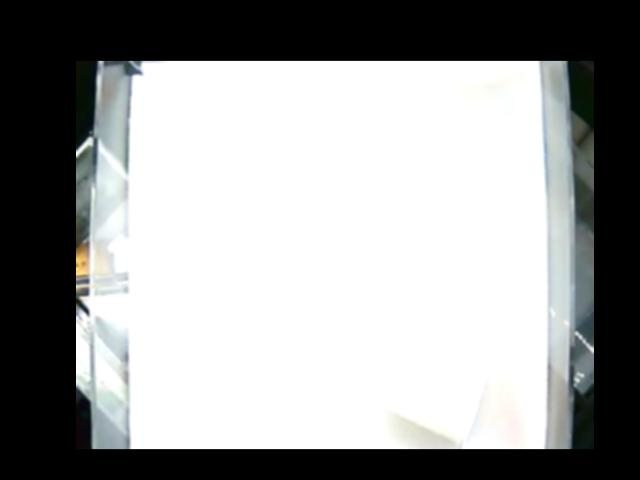Cup: (381, 339, 491, 449)
